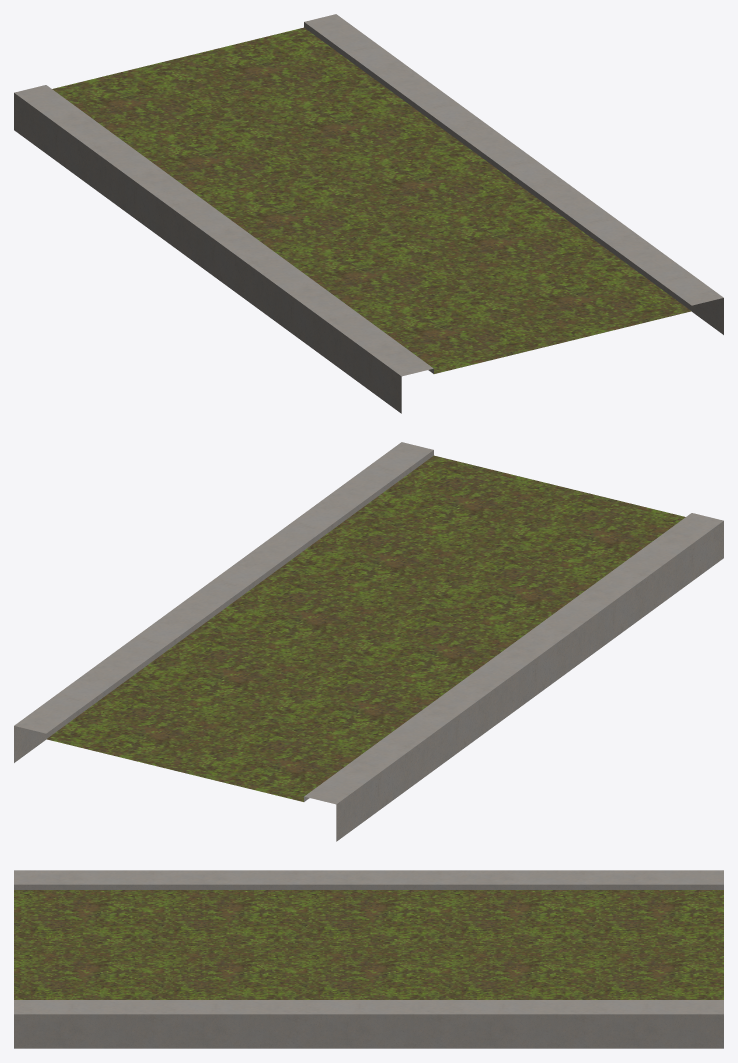
Rendered from SM06_Landscape_FlowerBed_01_Mid.fbx.
The picture shows the model from 3 angles, top to bottom: view 1: azimuth 30°, elevation 25°; view 2: azimuth 150°, elevation 25°; view 3: azimuth 270°, elevation 25°; orthographic projection. The views are drawn at different scales.
Parts seen in each view (by area): view 1: SM06_Landscape_FlowerBed_01_Mid; view 2: SM06_Landscape_FlowerBed_01_Mid; view 3: SM06_Landscape_FlowerBed_01_Mid.
Boxes of the visible parts, x1,y1,x2,y2 form: SM06_Landscape_FlowerBed_01_Mid: (14,14,723,413); SM06_Landscape_FlowerBed_01_Mid: (14,442,723,841); SM06_Landscape_FlowerBed_01_Mid: (14,870,723,1048).
Bounding box in the file's own units: 1.8 × 0.2 × 3.75.
